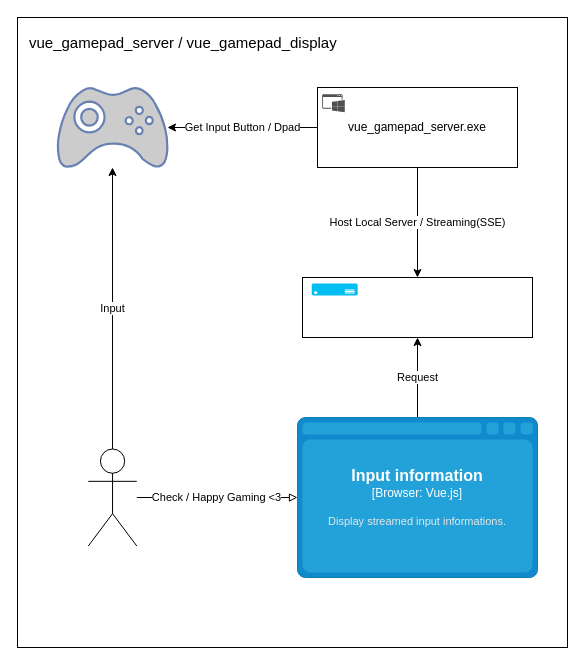
Image size: 585x665. Some labels were removed from this diagram. Here are the shapes that lost their labels. From the top down, the box of each, then its label:
(302, 276, 532, 338): http://locahost:xxxx/GetInputStream
(87, 448, 137, 546): Actor
